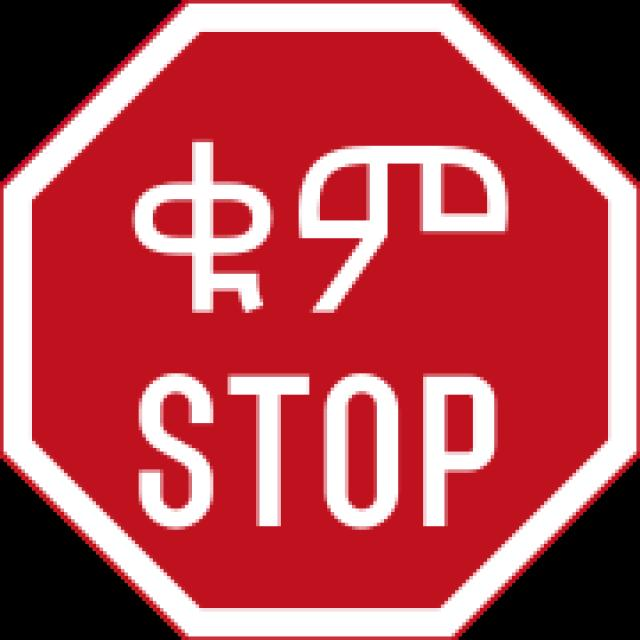Traffic sign: (23, 28, 622, 627)
